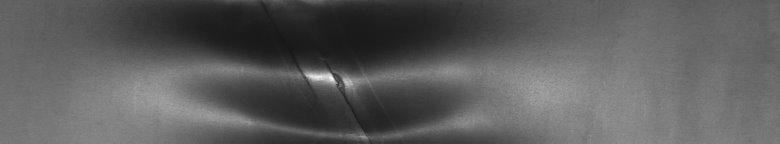ke: (223, 4, 438, 136)
